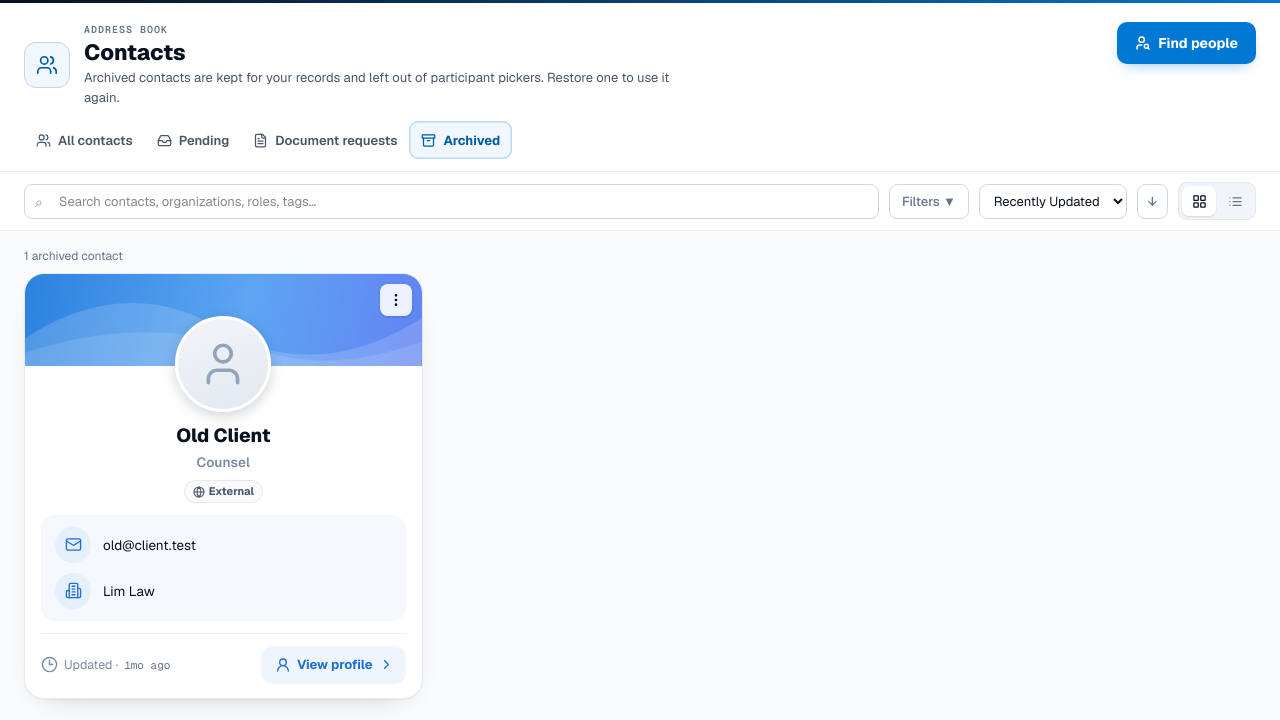
it: permanent delete › is offered only on an archived contact, and asks before it deletes
Click the button named "Actions for Old Client": (396, 300) top-left (380, 284), bottom-right (412, 316)
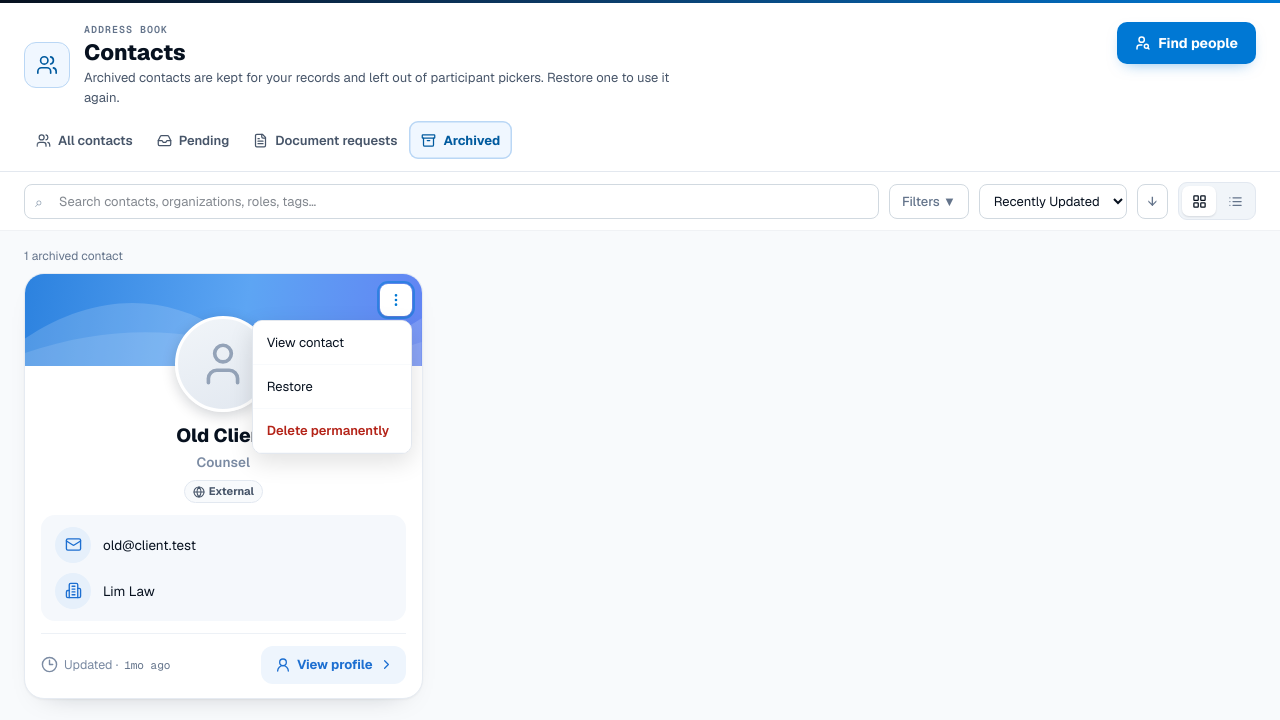
Click the menu item "Delete permanently": (332, 431) top-left (253, 409), bottom-right (411, 453)
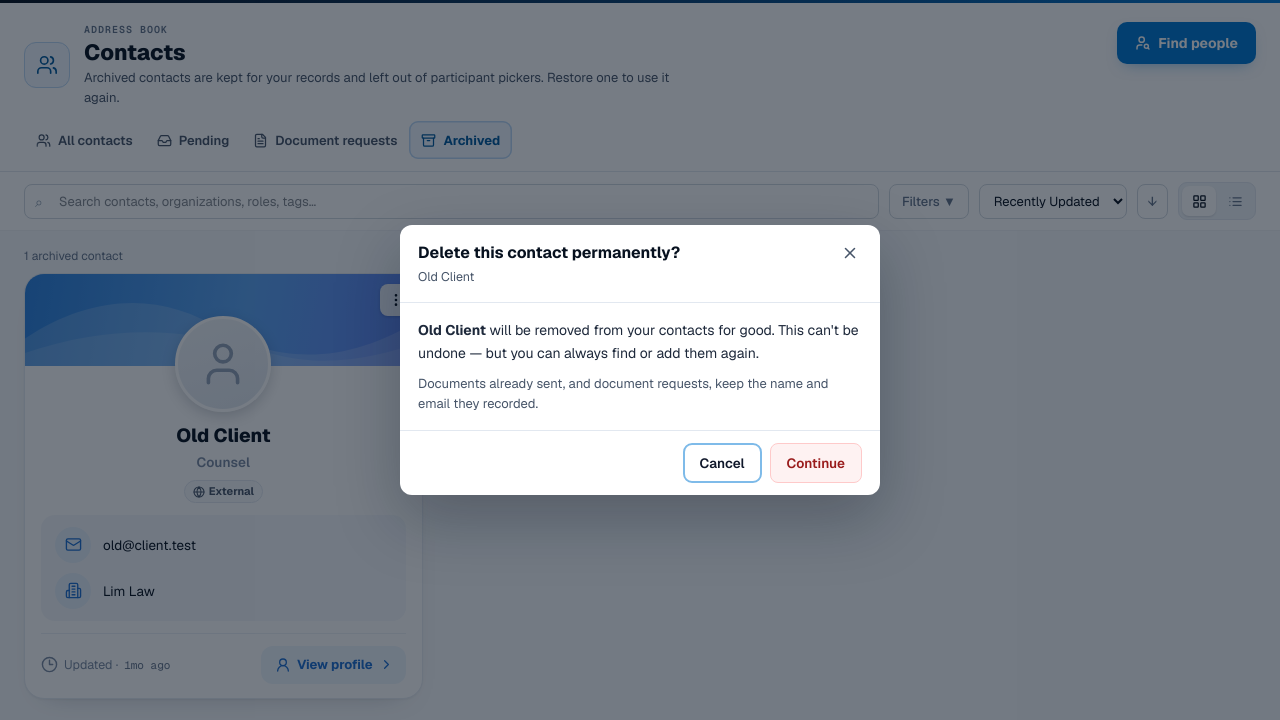
Expected: the dialog "Delete this contact permanently" shows "This can't be undone", top-left (418, 321), bottom-right (859, 362)
Click the button "Cancel": (722, 463) top-left (682, 443), bottom-right (762, 483)
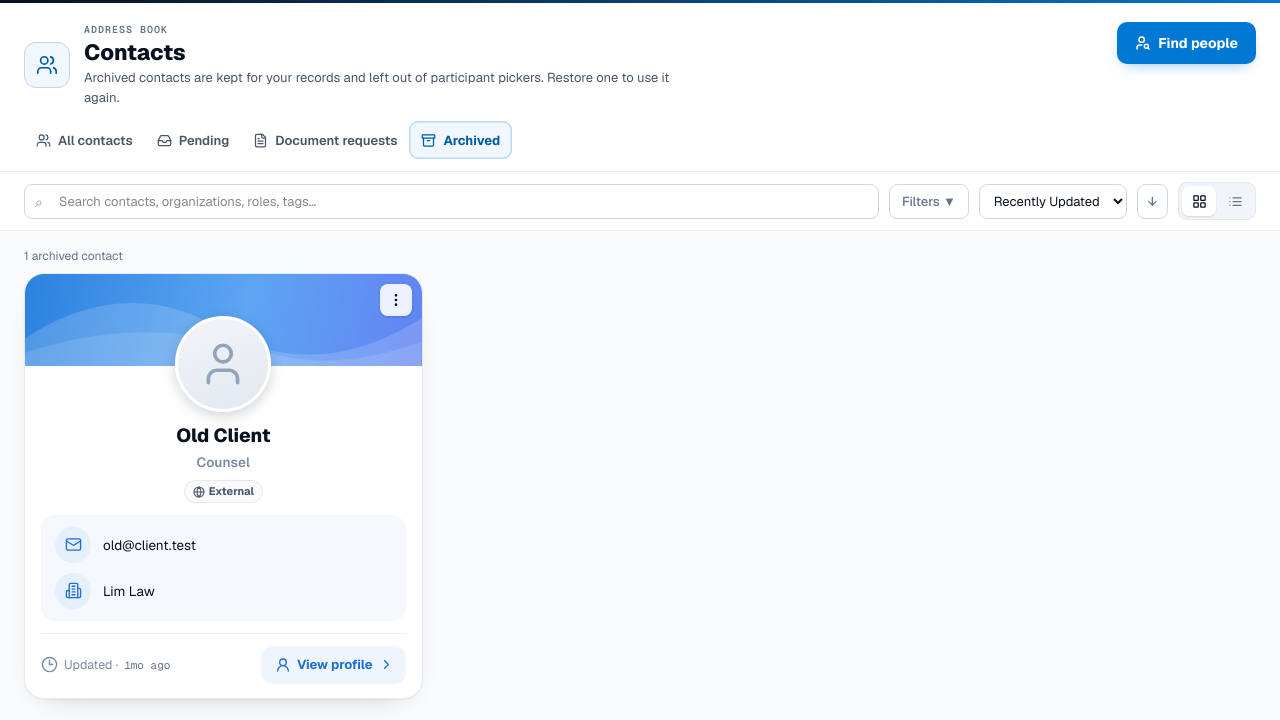
Click the button named "Actions for Old Client": (396, 300) top-left (380, 284), bottom-right (412, 316)
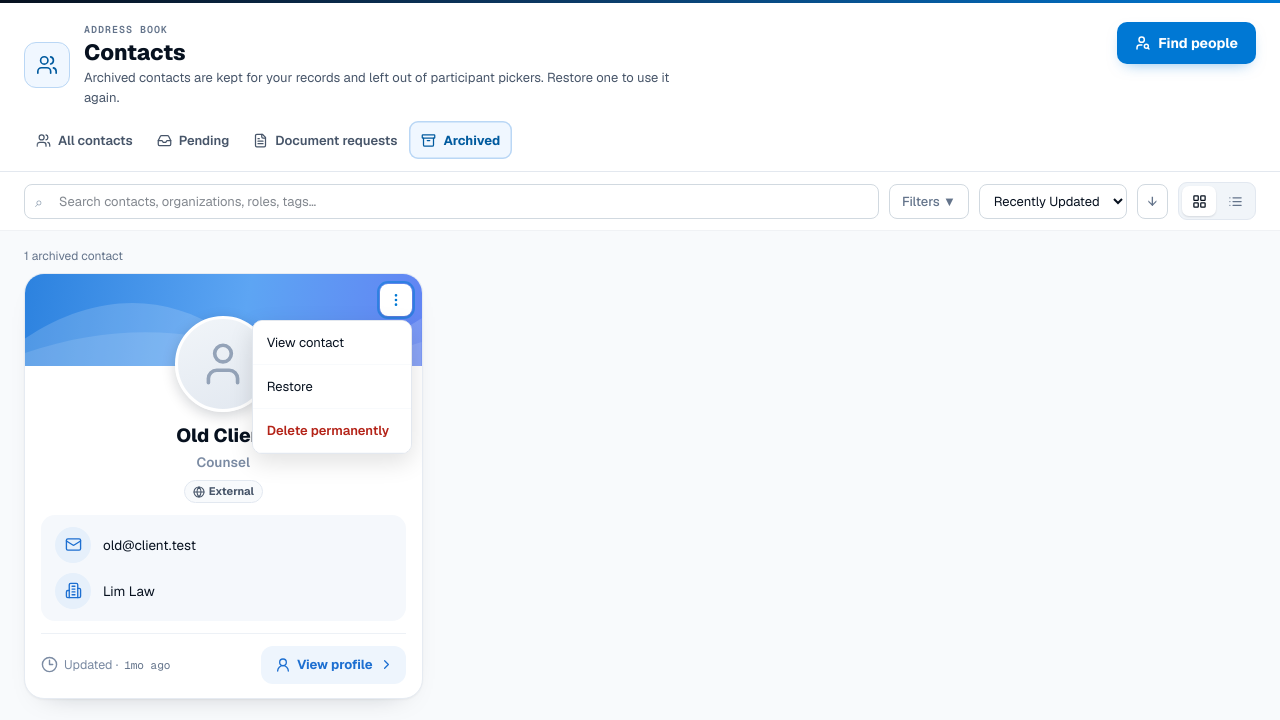
Click the menu item "Delete permanently": (332, 431) top-left (253, 409), bottom-right (411, 453)
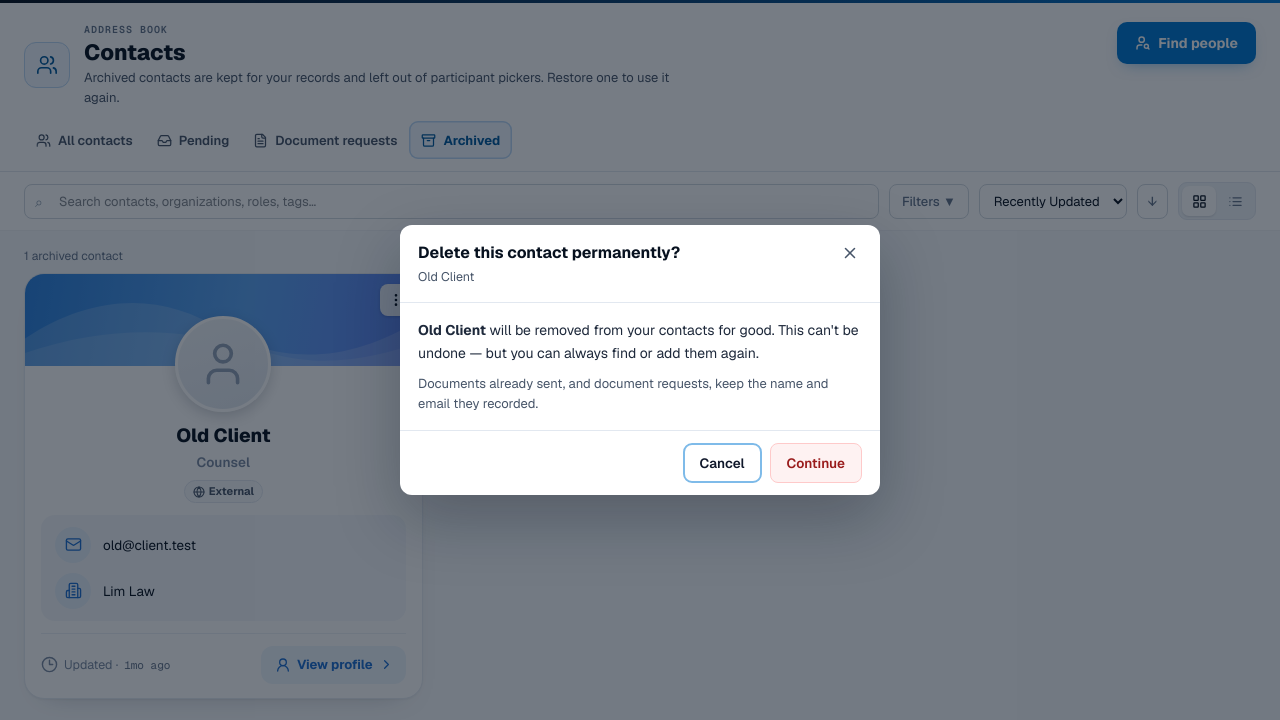
Click the button with test id "confirm-delete-contact": (816, 463) top-left (770, 443), bottom-right (862, 483)
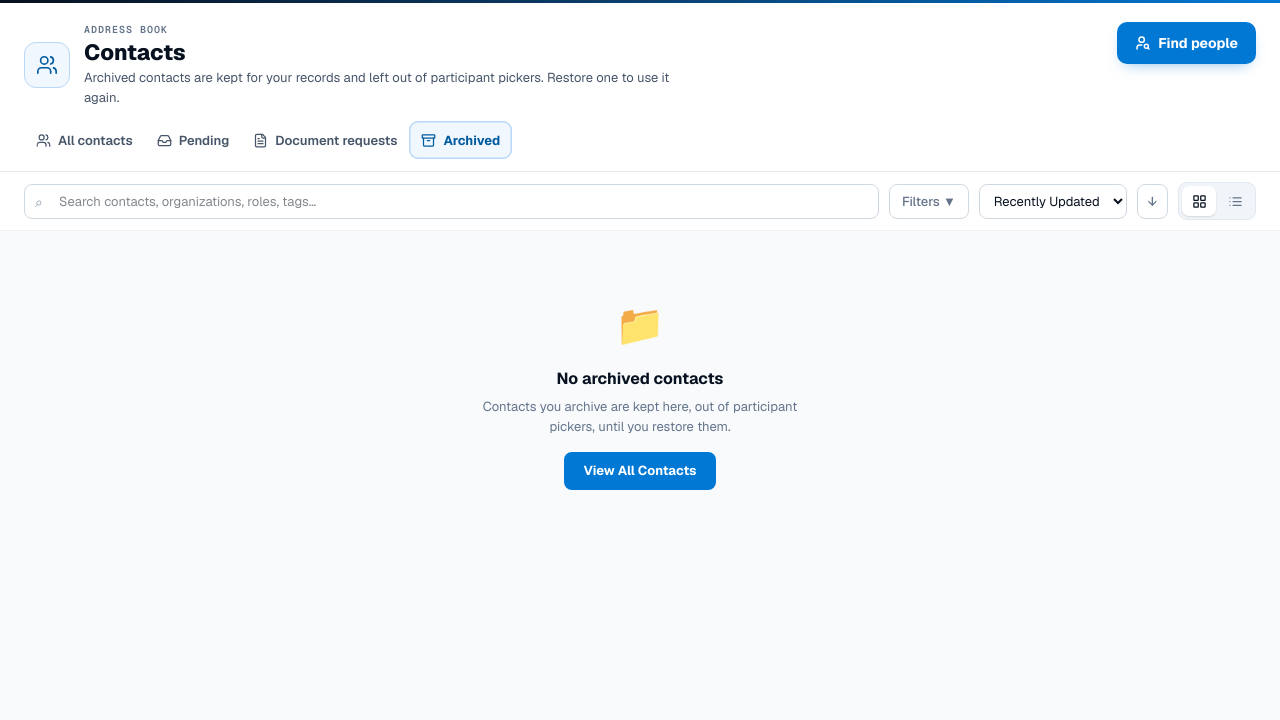
Expected: the heading "No archived contacts" is shown, top-left (556, 368), bottom-right (723, 389)
